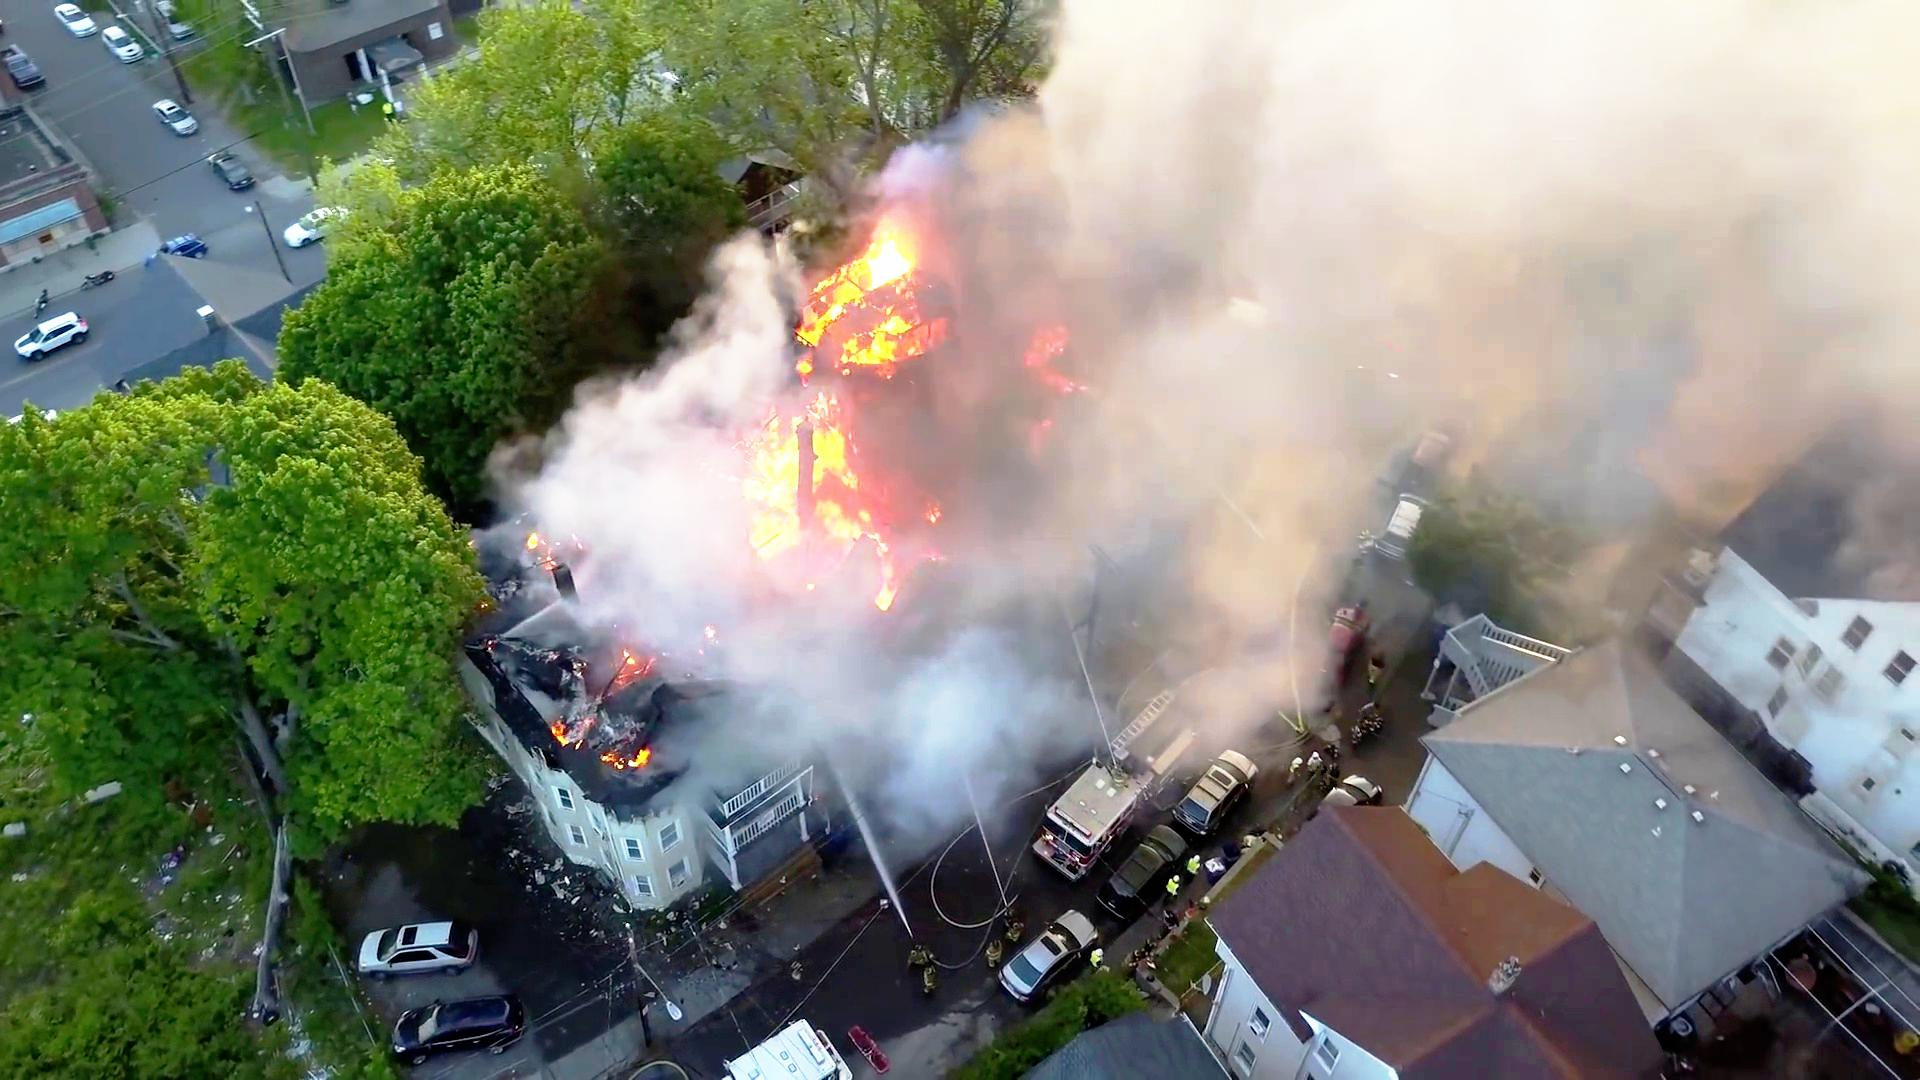fire: (745, 404, 895, 579), (806, 231, 939, 398)
